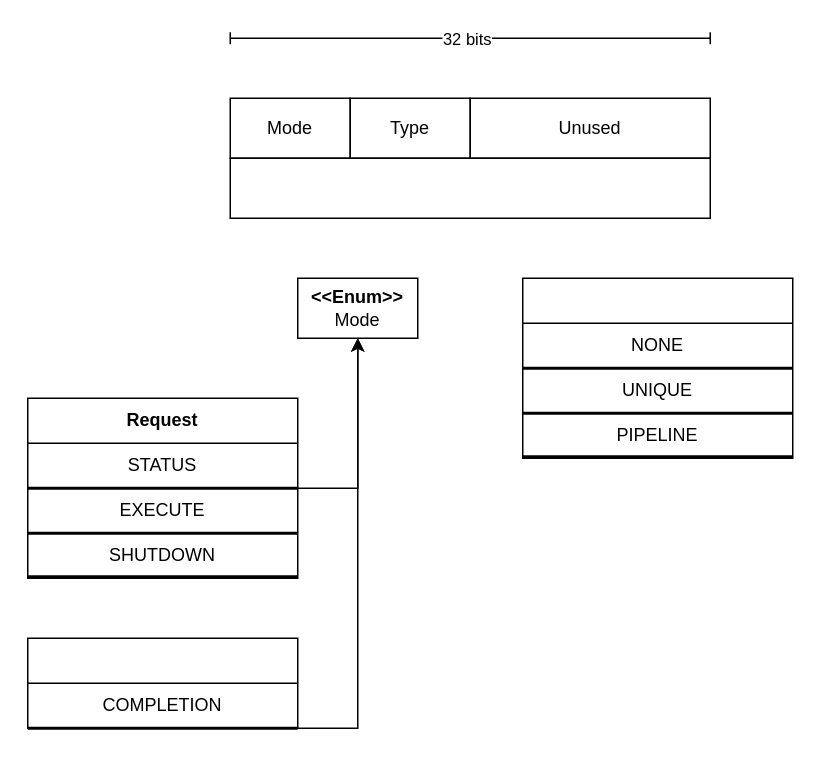
The diagram is 819 pixels wide and 767 high, and some of its shapes have lost their labels. Here are the shapes that lost their labels. From the top down, the box of each, then its label:
(229, 157, 710, 218): Task Id
(521, 277, 793, 458): <<Enum>> Type
(26, 637, 298, 728): Response
